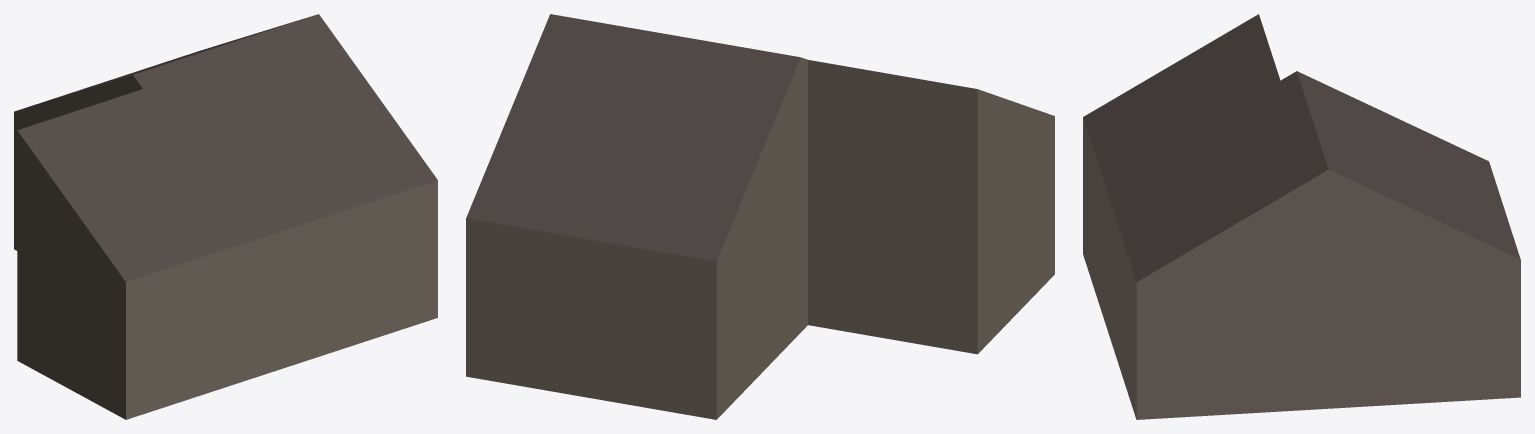
3 renders of one model, left to right at view 1: azimuth 30°, elevation 25°; view 2: azimuth 150°, elevation 25°; view 3: azimuth 270°, elevation 25°, orthographic. The views are drawn at different scales.
Parts seen in each view (by area): view 1: HP-w408450800; view 2: HP-w408450800; view 3: HP-w408450800.
Part boxes in pixels (x1=…): HP-w408450800: x1=14, y1=14, x2=437, y2=419; HP-w408450800: x1=466, y1=14, x2=1054, y2=419; HP-w408450800: x1=1083, y1=14, x2=1520, y2=419.
Bounding box in the file's own units: 16.4 × 10.42 × 17.29.
